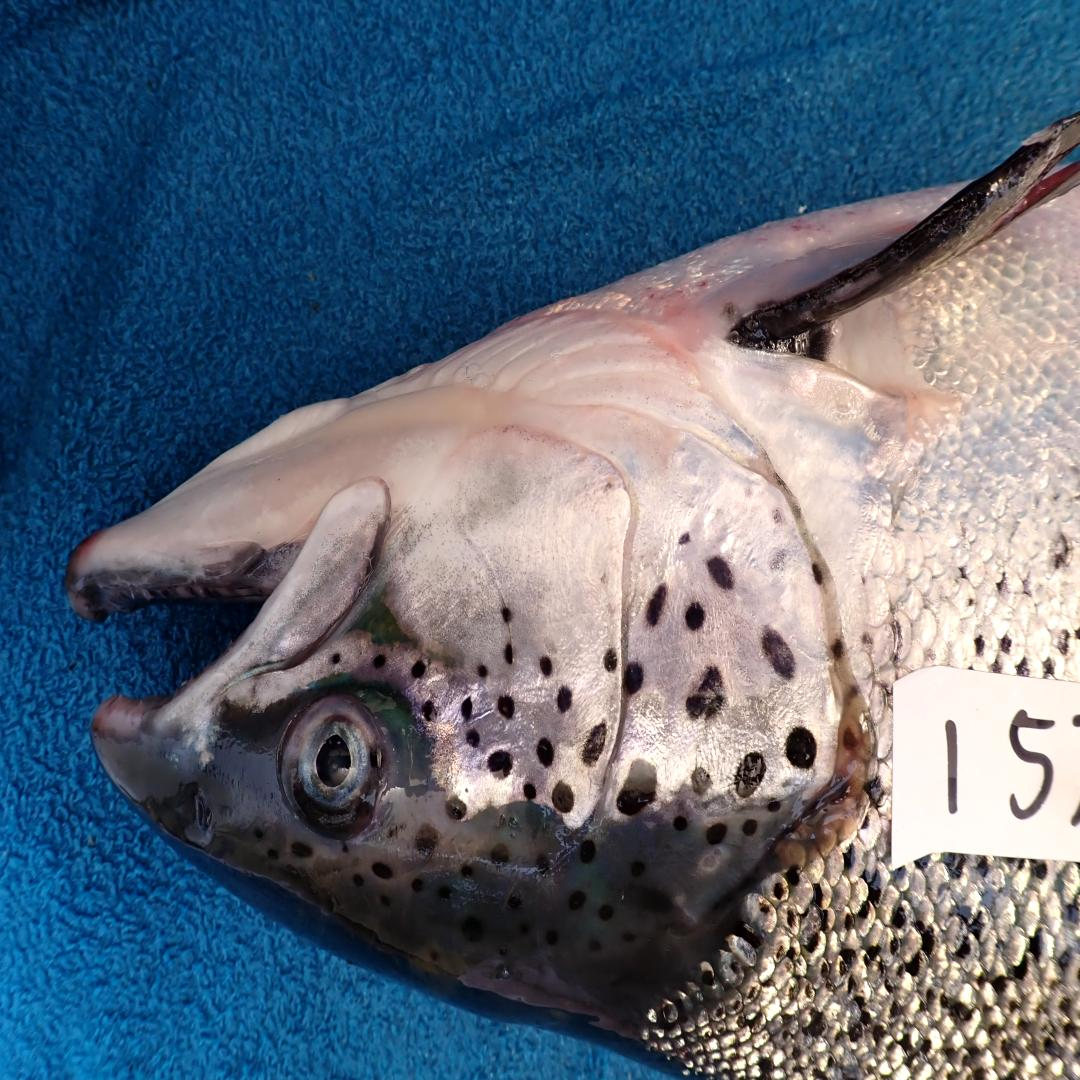roi: (383, 289, 847, 826)
